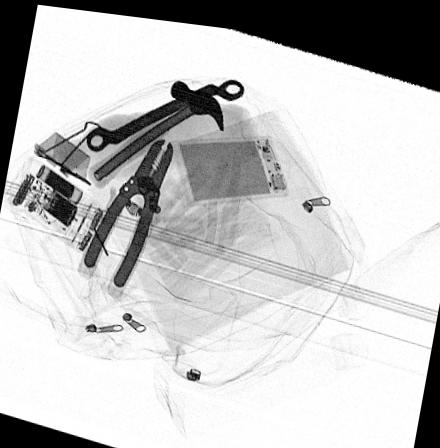Hammer: (85, 73, 224, 187)
Pliers: (75, 133, 172, 296)
Powerbank: (168, 127, 285, 203)
Wrench: (84, 70, 243, 148)
